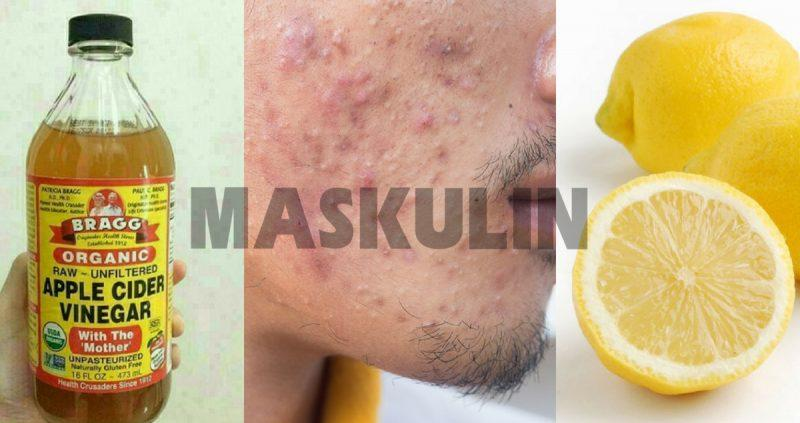Acne: (243, 2, 541, 338)
